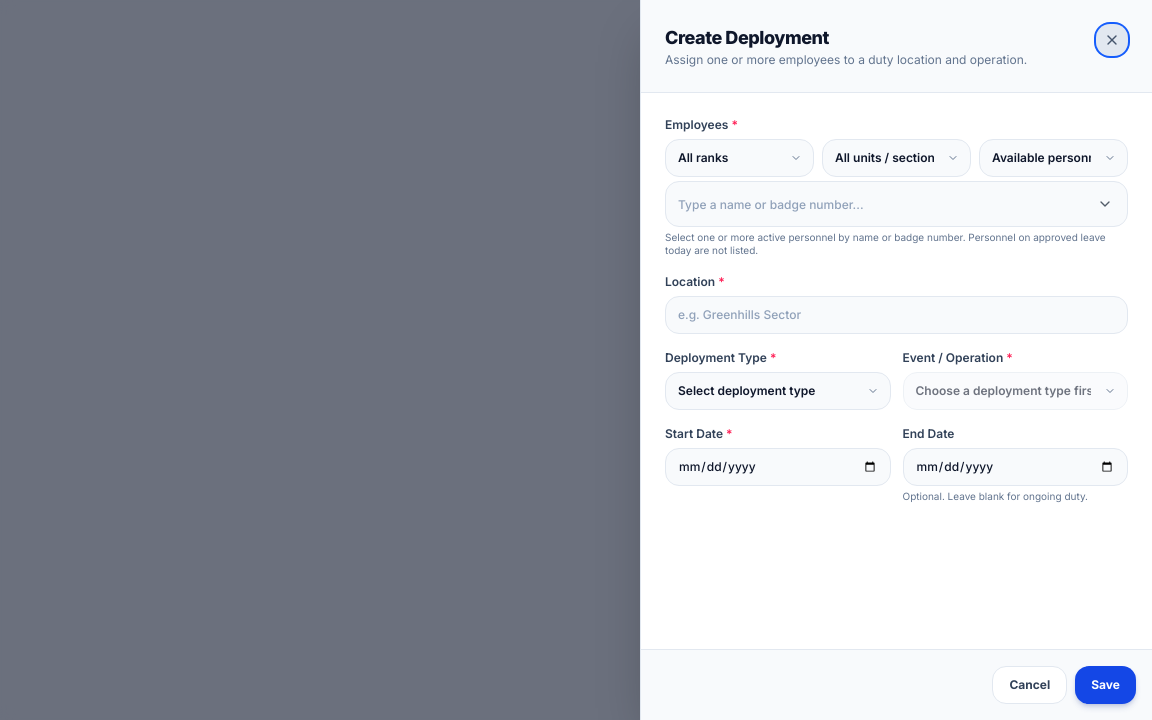
Test case: DeploymentPanel (dep.html side panel) › shows the Create Deployment fields and refuses an empty form
The image size is (1152, 720).
Expected: the text "Assign one or more employees to a duty location and operation." is shown, [665,52,1027,68]
Expected: the text "Employees" is shown, [665,117,728,132]
Step 1. Click the button "Save" → [1106, 685], box [1075,666,1136,704]
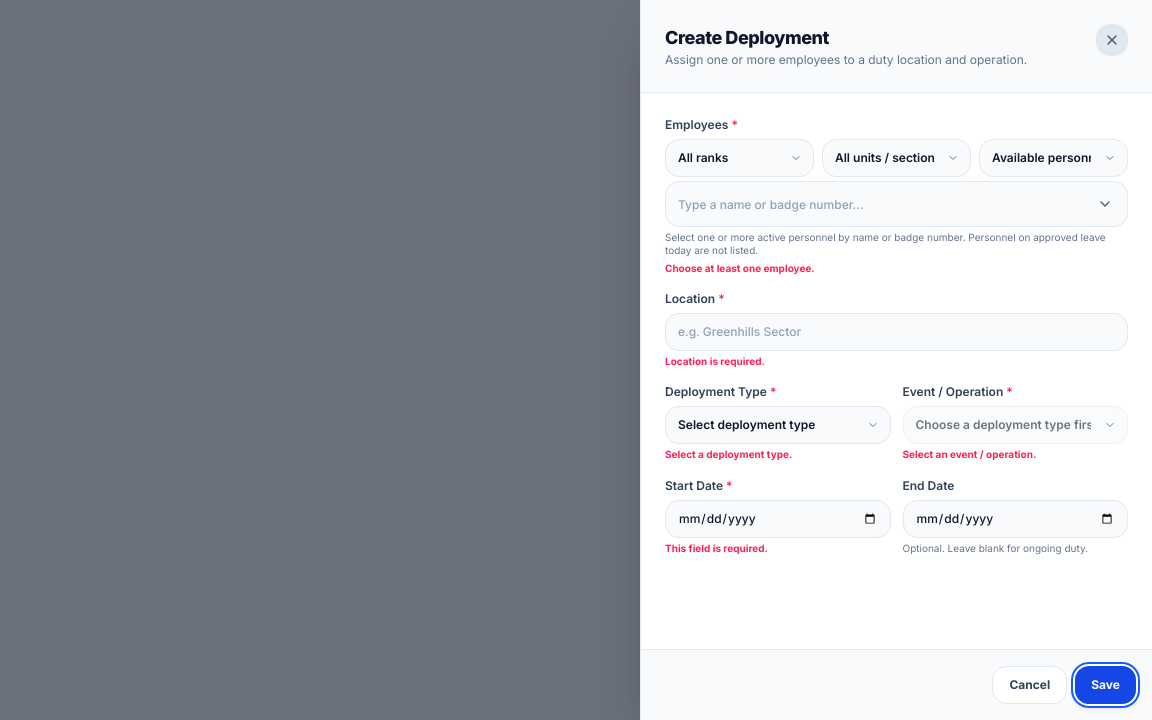
Expected: the text "Choose at least one employee." is shown, [665,262,815,274]
Expected: the text "Location is required." is shown, [665,355,765,367]
